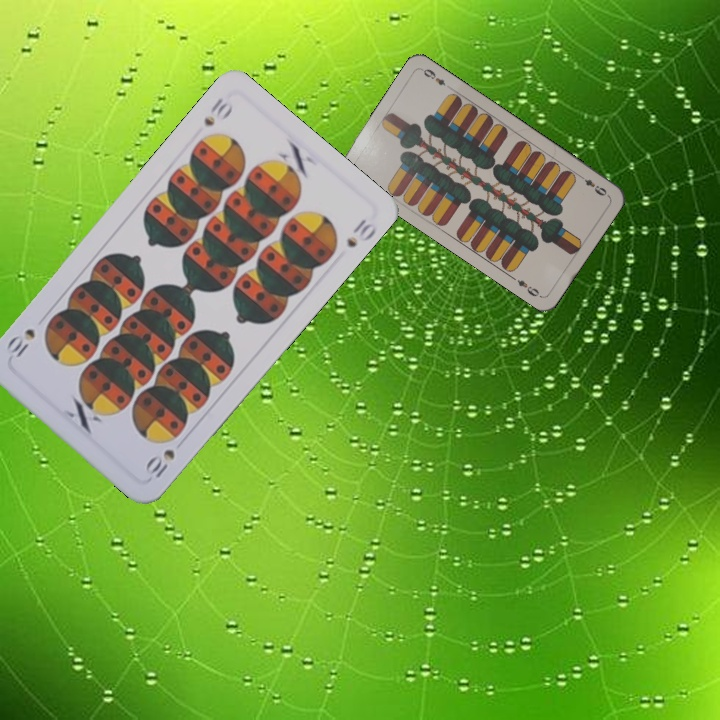E9: (575, 171, 610, 199)
S10: (140, 445, 178, 483), (199, 93, 236, 129)
